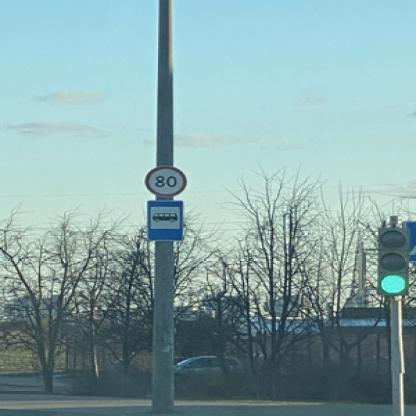speedlimit: (141, 165, 183, 194)
trafficlight: (374, 224, 408, 294)
